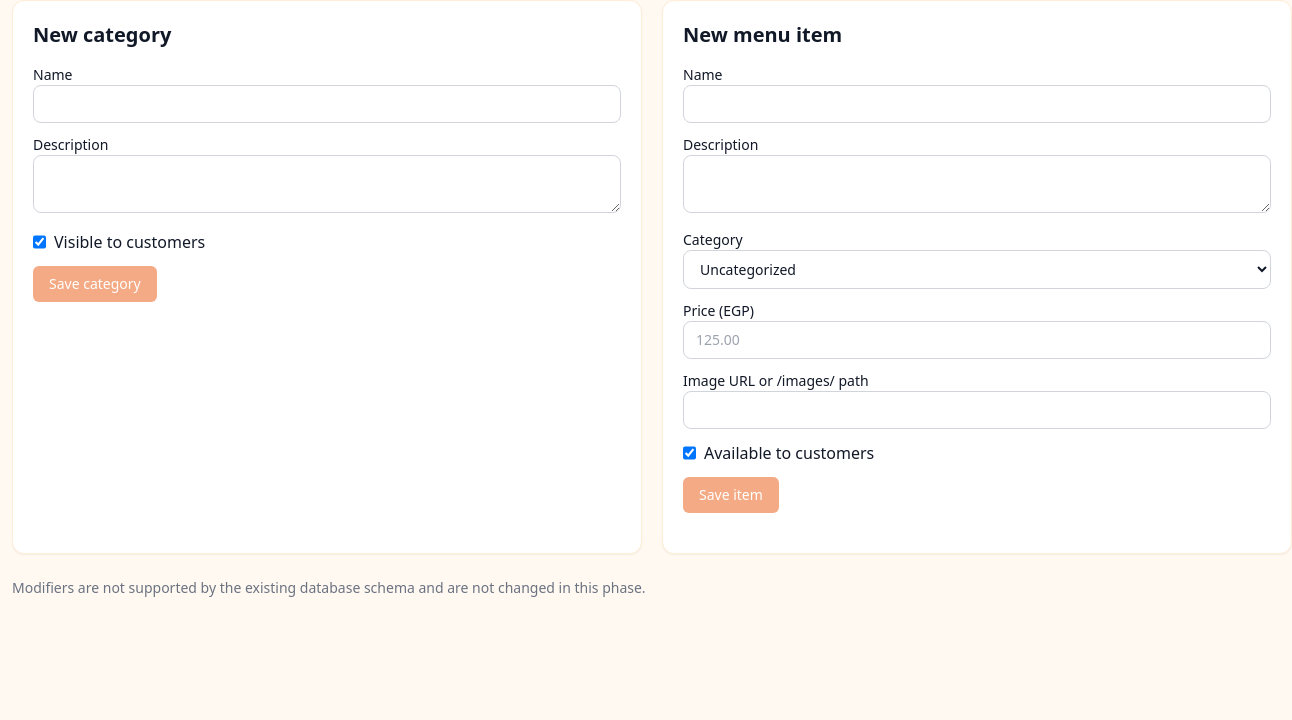
Test: menu editor › creates a menu item in piastres and confirms save
The width and height of the screenshot is (1292, 720).
Step 1. Type "Test dish" into the field labelled "Name" below "New menu item" → (977, 104), box [683,85,1271,123]
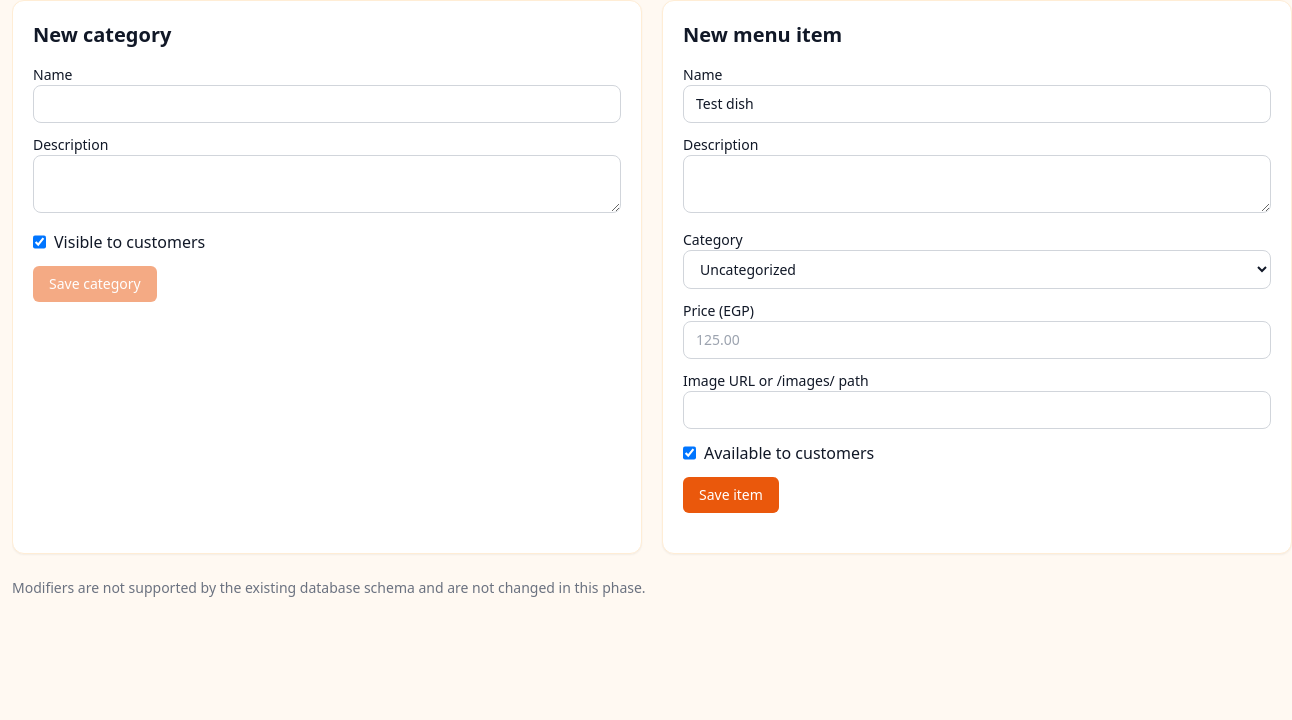
Step 2. Type "123.45" into the field labelled "Price (EGP)" → (977, 340), box [683,321,1271,359]
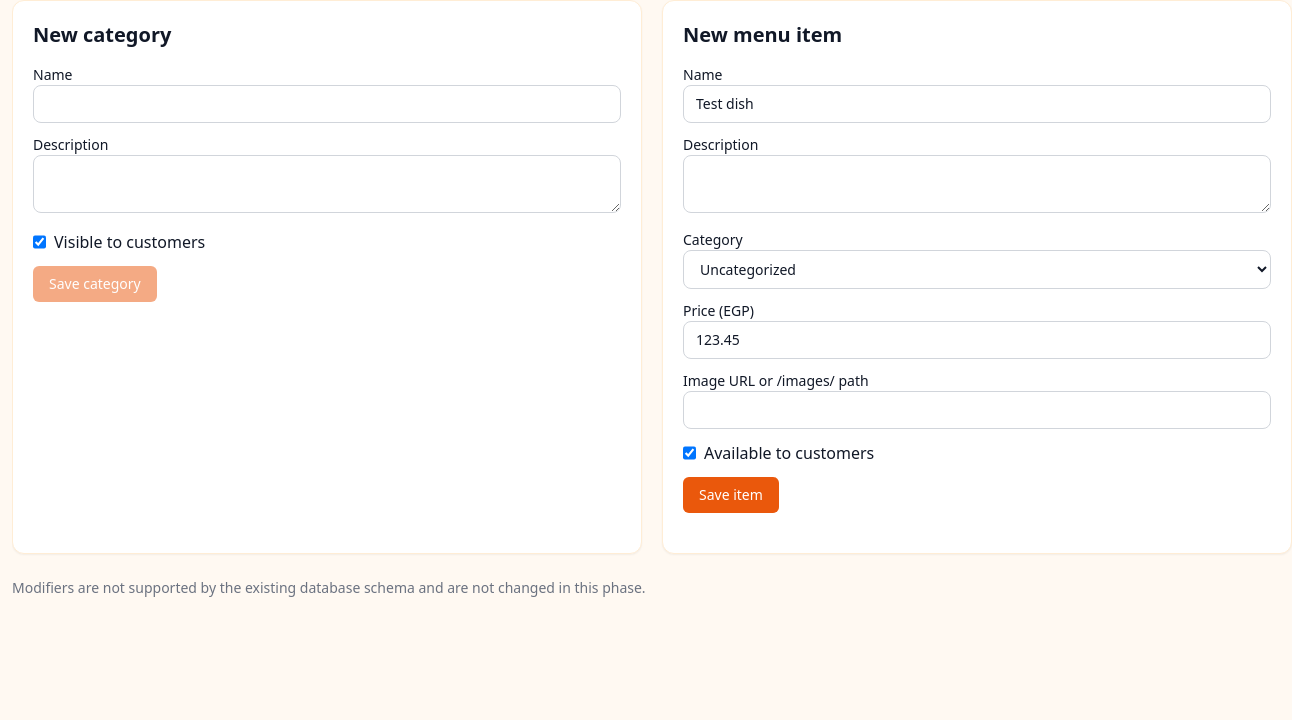
Step 3. Click the button "Save item" → (731, 495), box [683,477,779,513]
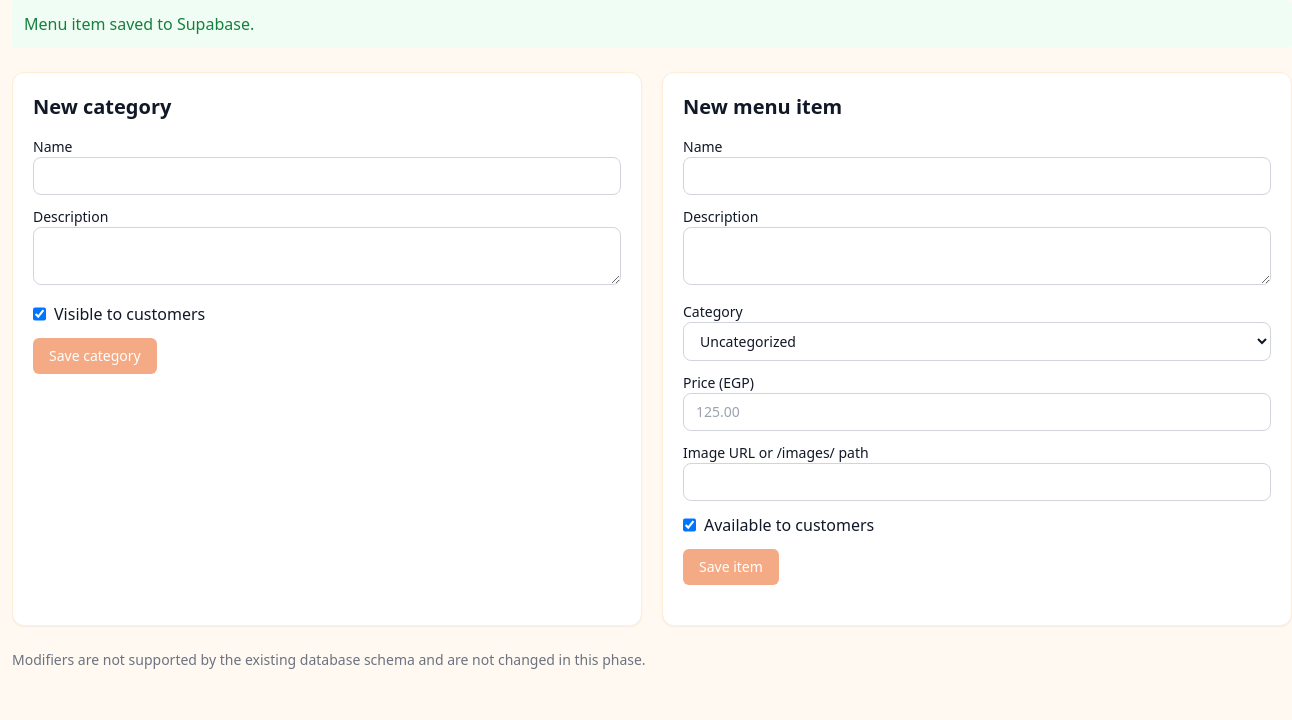
Expected: the text "Menu item saved to Supabase." is shown, [12,0,1291,48]
